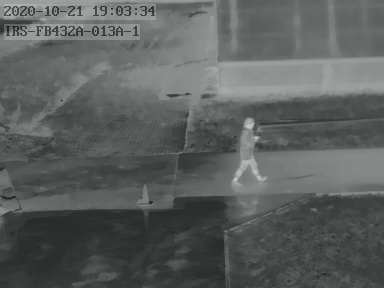person: (233, 116, 262, 186)
